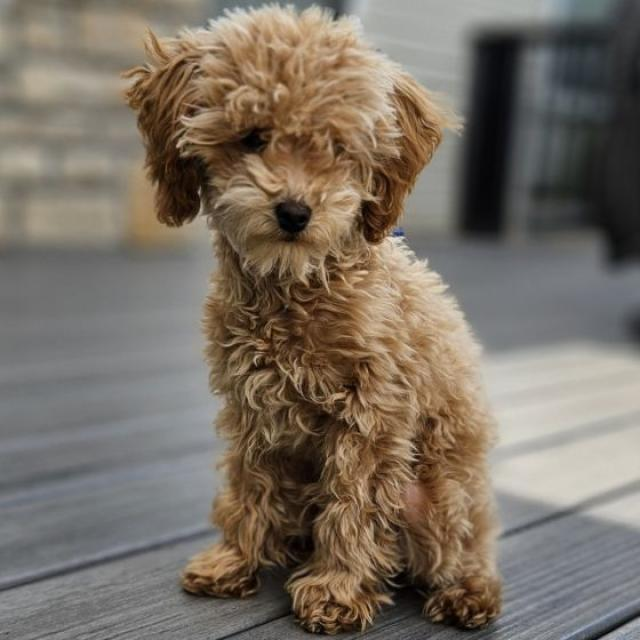Poodle_dog: (110, 8, 463, 298)
